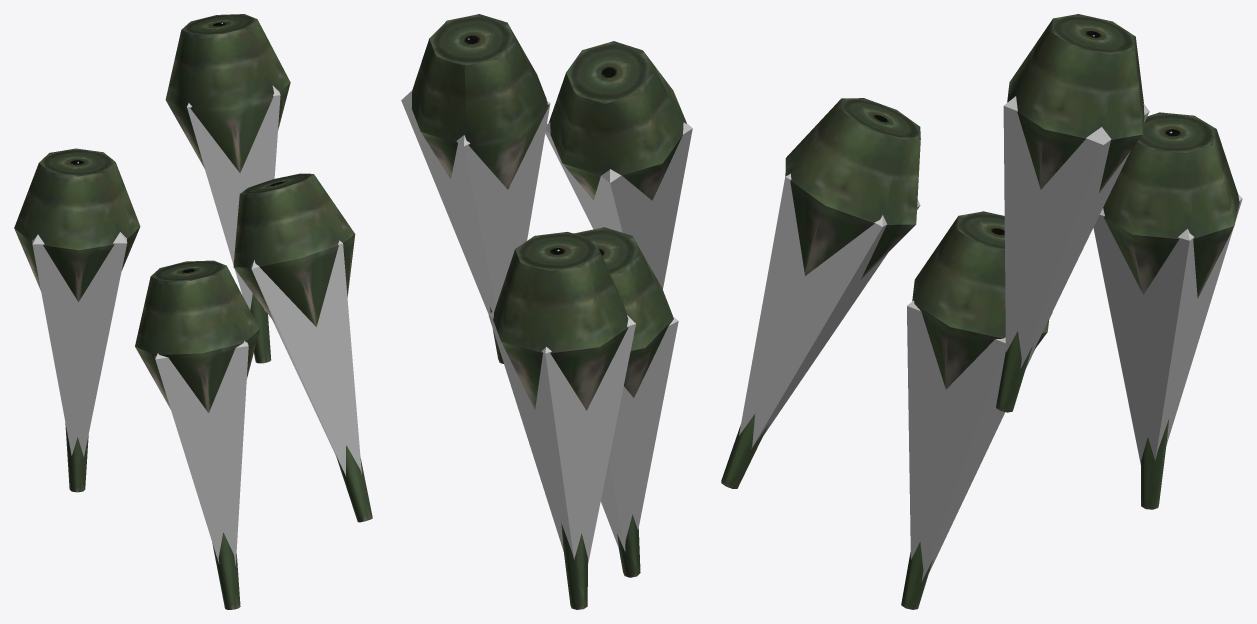
3 renders of one model, left to right at view 1: azimuth 30°, elevation 25°; view 2: azimuth 150°, elevation 25°; view 3: azimuth 270°, elevation 25°, orthographic. The views are drawn at different scales.
Visible parts, largest first — view 1: surface_000, surface_001; view 2: surface_000, surface_001; view 3: surface_000, surface_001.
Boxes of the visible parts, x1=… form: surface_000: x1=14, y1=14, x2=372, y2=609; surface_001: x1=32, y1=23, x2=361, y2=565; surface_000: x1=411, y1=14, x2=686, y2=609; surface_001: x1=401, y1=38, x2=692, y2=563; surface_000: x1=721, y1=14, x2=1239, y2=609; surface_001: x1=739, y1=35, x2=1242, y2=581.
Bounding box in the file's own units: 24 × 53.29 × 40.58.
